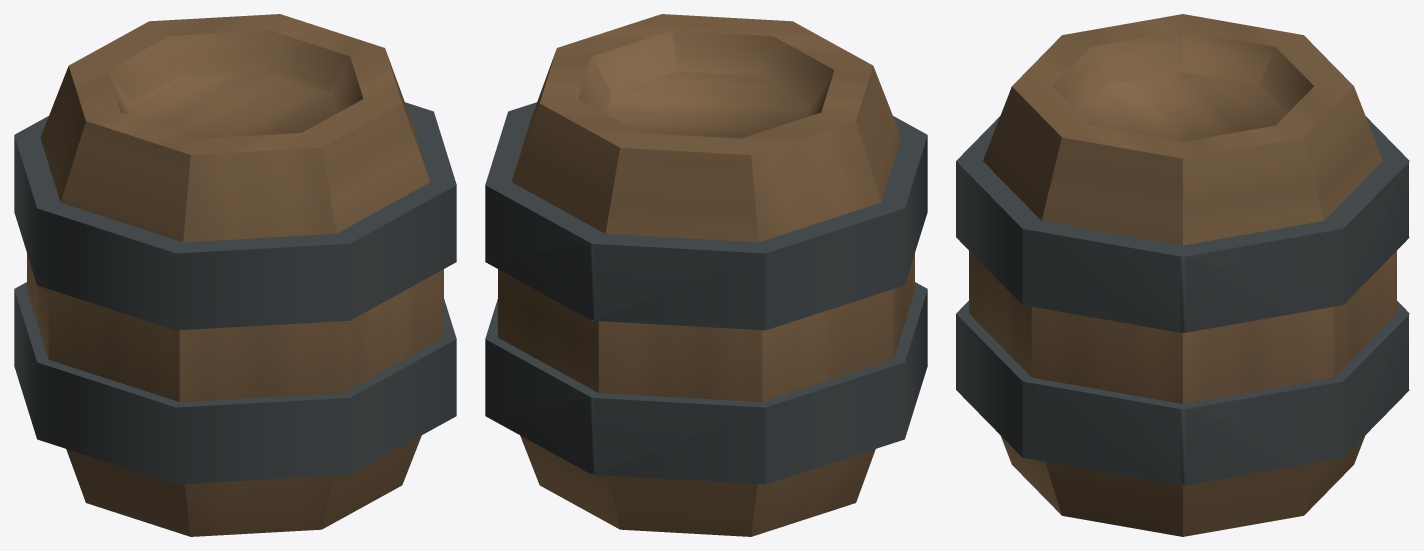
The model's file is barrel.glb.
3 views of the same model, side by side, from view 1: azimuth 30°, elevation 25°; view 2: azimuth 150°, elevation 25°; view 3: azimuth 270°, elevation 25° (orthographic).
Parts seen in each view (by area): view 1: Wooden Barrel; view 2: Wooden Barrel; view 3: Wooden Barrel.
Boxes of the visible parts, bbox=[...] form: Wooden Barrel: bbox=[14, 14, 456, 536]; Wooden Barrel: bbox=[485, 14, 927, 536]; Wooden Barrel: bbox=[956, 14, 1409, 536].
Size of the model in its own units: 1.09 by 1 by 1.09.
2 materials, 1 textured.
